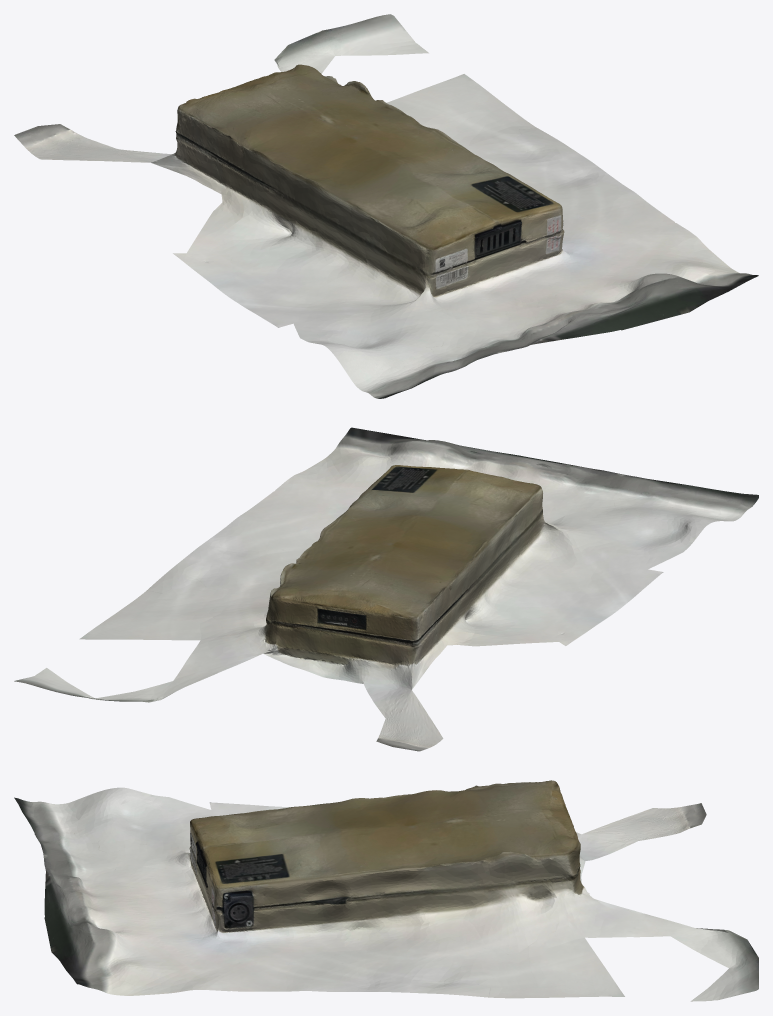
3 renders of one model, top to bottom at view 1: azimuth 30°, elevation 25°; view 2: azimuth 150°, elevation 25°; view 3: azimuth 270°, elevation 25°, orthographic. The views are drawn at different scales.
Size of the model in its own units: 1.84 by 0.3708 by 3.12.
Materials: 1 (1 with a texture image).
